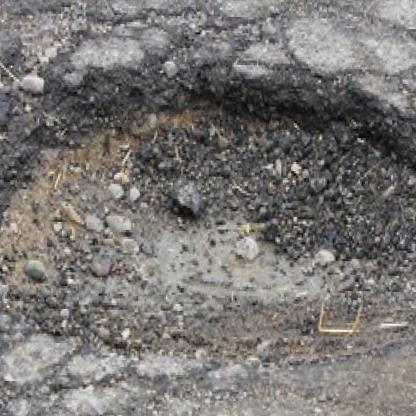pothole: (0, 53, 416, 369)
